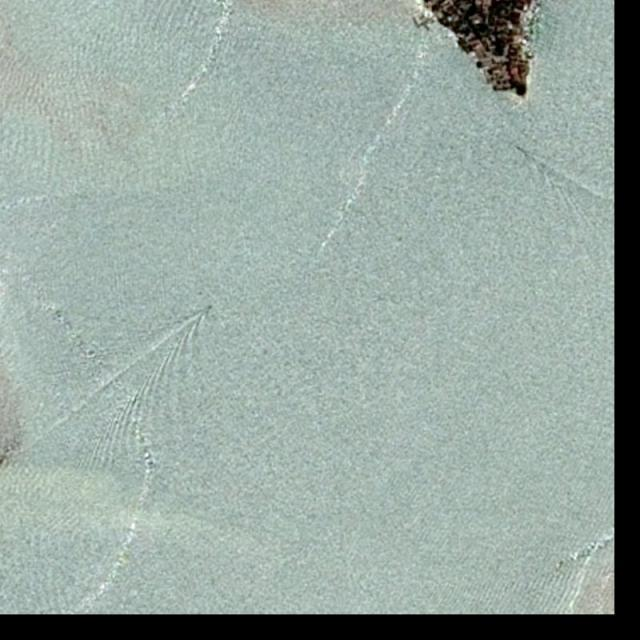ship: (208, 305, 213, 310)
